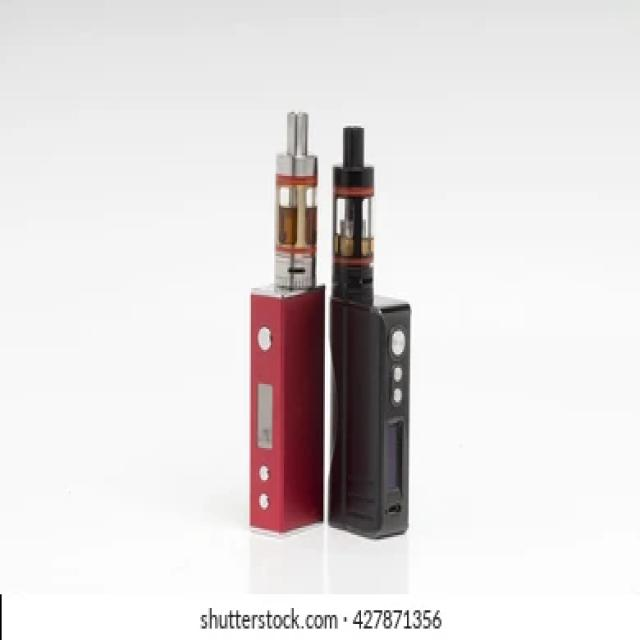Cigarette: (328, 126, 410, 542), (249, 113, 325, 538)
